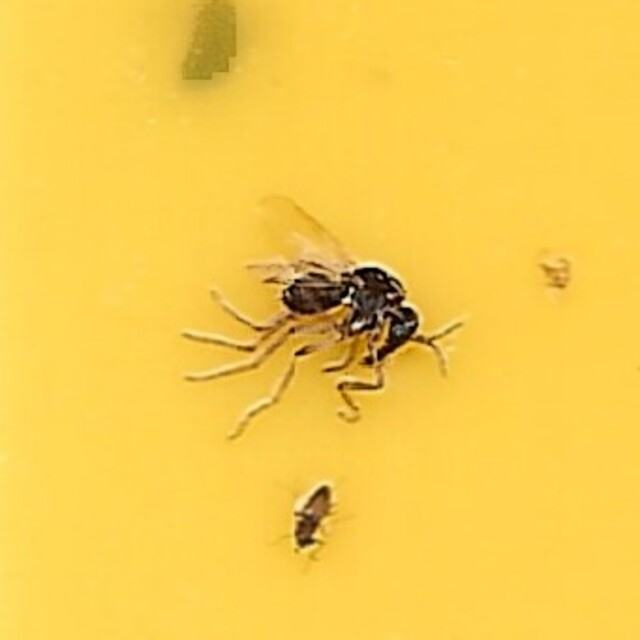Brachycera: (188, 190, 452, 450)
